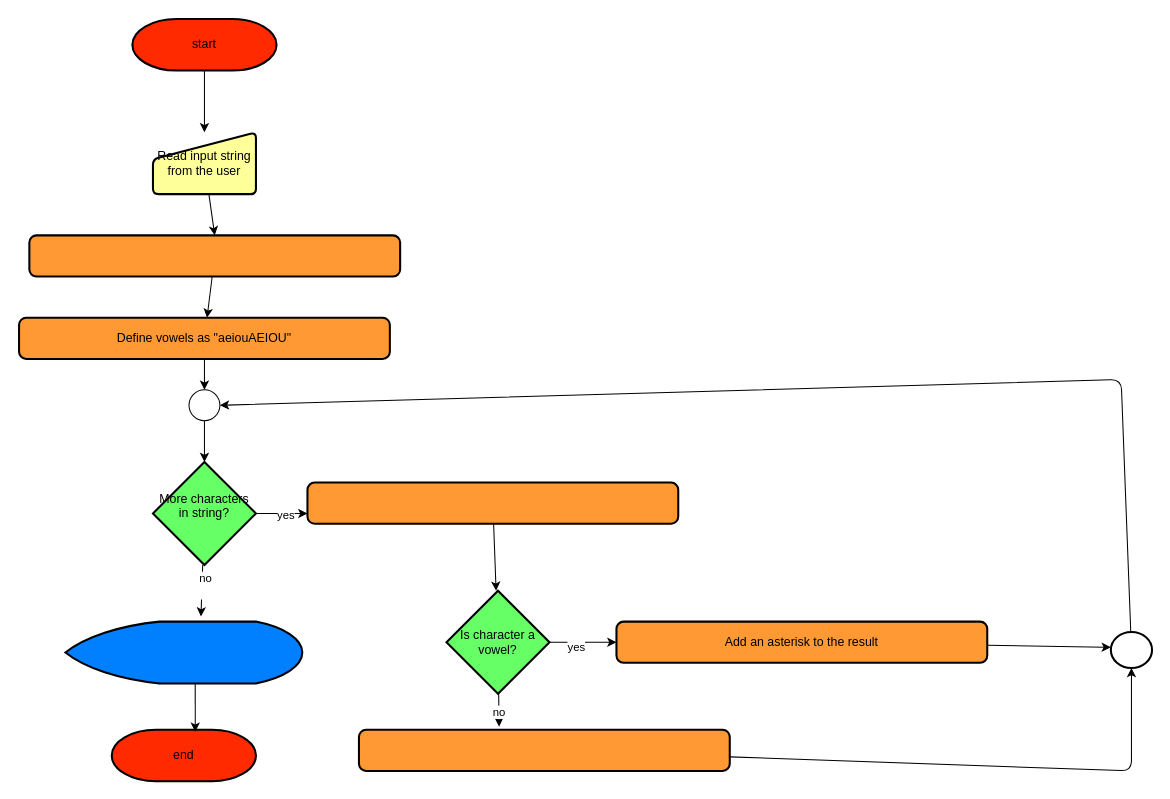
The diagram is 1170 pixels wide and 799 high, and some of its shapes have lost their labels. Each missing label, with the centre of its shape:
Convert character to uppercase: the point at 492,502
Initialize an empty string for the result: the point at 214,255
No Add the uppercase character to the result: the point at 543,749
Print the modified string: the point at 183,652
